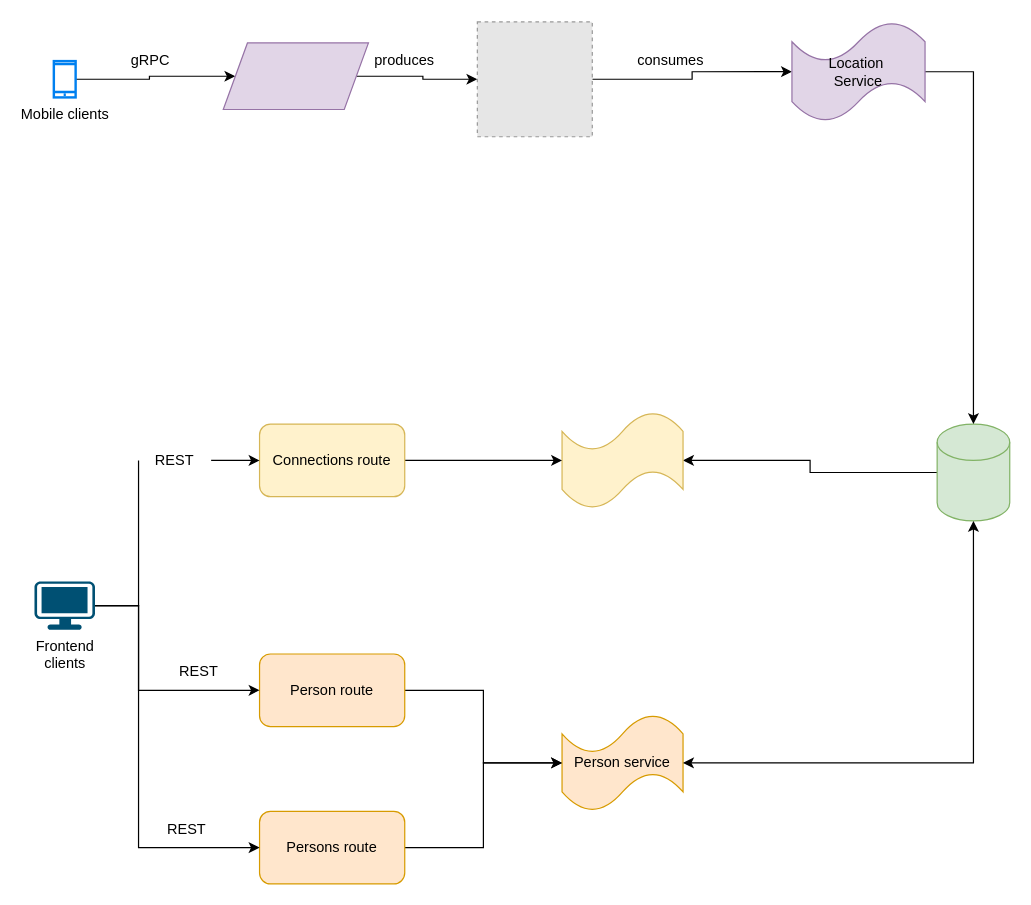
The diagram is 1031 pixels wide and 905 high, and some of its shapes have lost their labels. Grey dashed boxes stand in for pictures. Each missing label, with the box of its shape:
Connections service: (561, 411, 683, 509)
Database: (936, 423, 1010, 521)
Location gulp: (222, 42, 368, 110)
